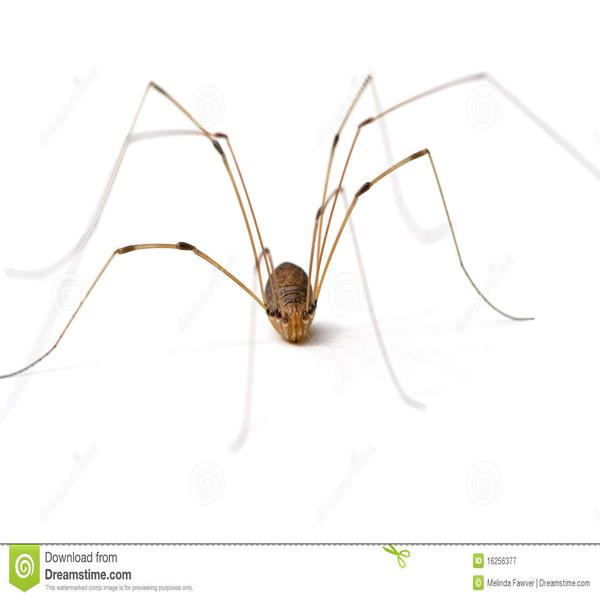Daddy Long Legs Spider: (14, 70, 580, 379)
